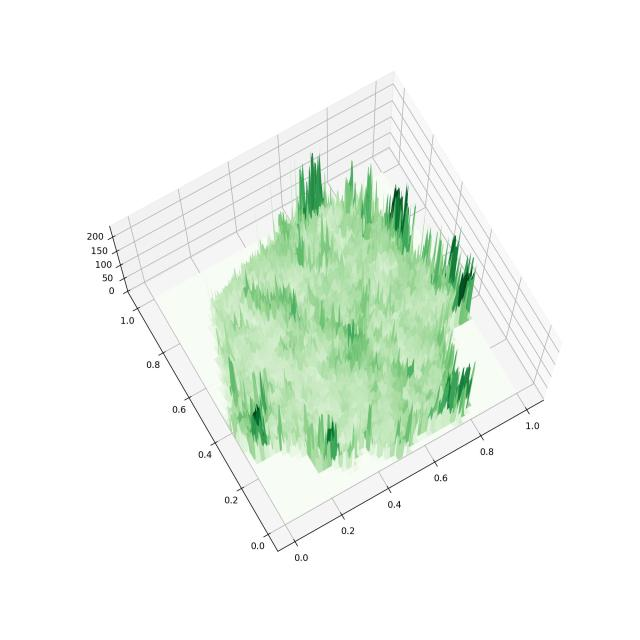fir: (68, 62, 602, 598)
